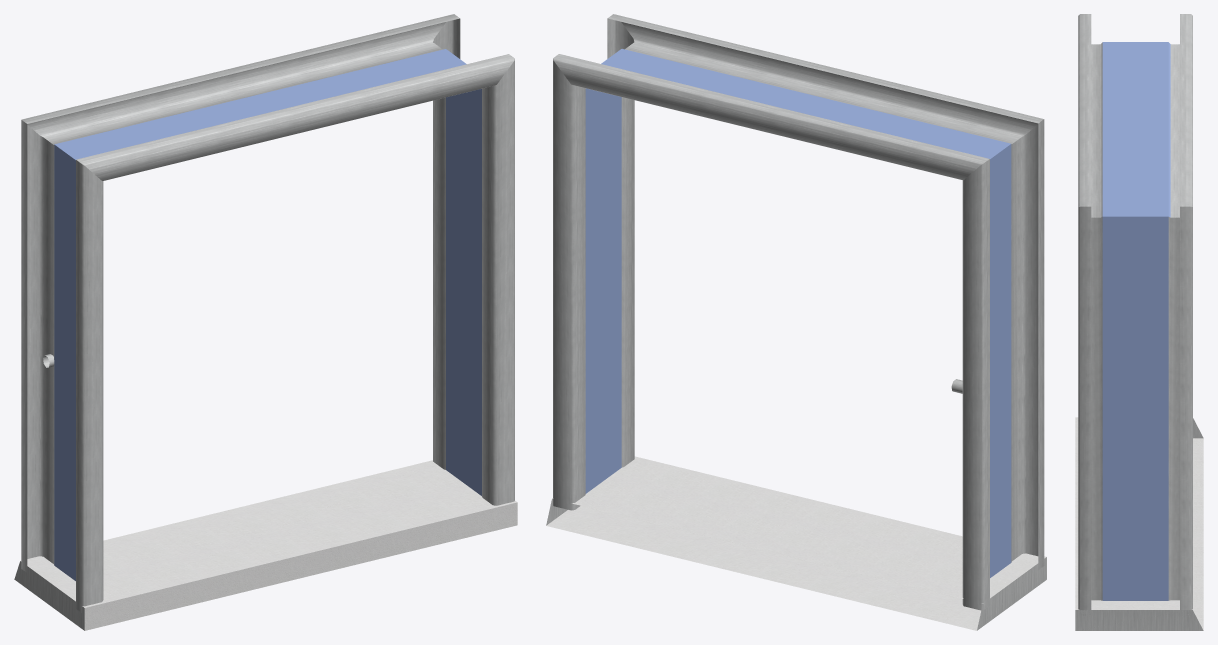
The model's file is OR_WindowFrame_Small.fbx.
3 views of the same model, side by side, from view 1: azimuth 30°, elevation 25°; view 2: azimuth 150°, elevation 25°; view 3: azimuth 270°, elevation 25° (orthographic). The views are drawn at different scales.
Visible parts, largest first — view 1: OR_WindowFrame_Small; view 2: OR_WindowFrame_Small; view 3: OR_WindowFrame_Small.
Part boxes in pixels (bbox=[...]): OR_WindowFrame_Small: bbox=[14, 14, 517, 630]; OR_WindowFrame_Small: bbox=[546, 14, 1046, 630]; OR_WindowFrame_Small: bbox=[1075, 14, 1203, 630].
Bounding box in the file's own units: 100 × 103 × 28.15.
